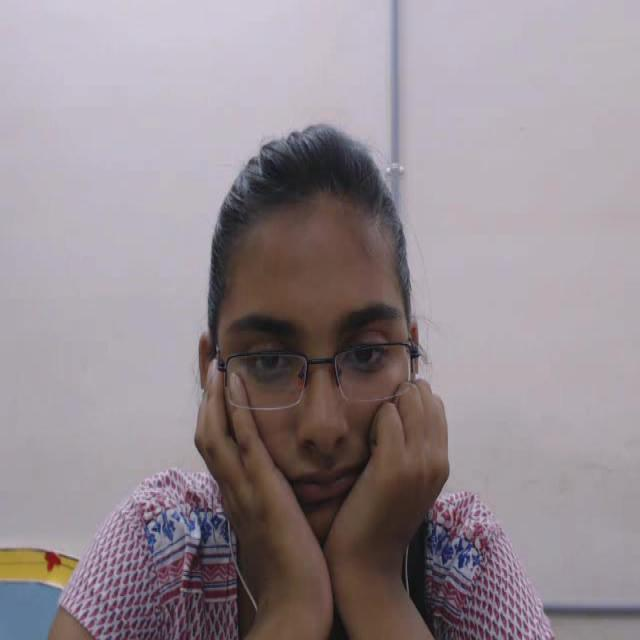Bored: (156, 94, 464, 599)
